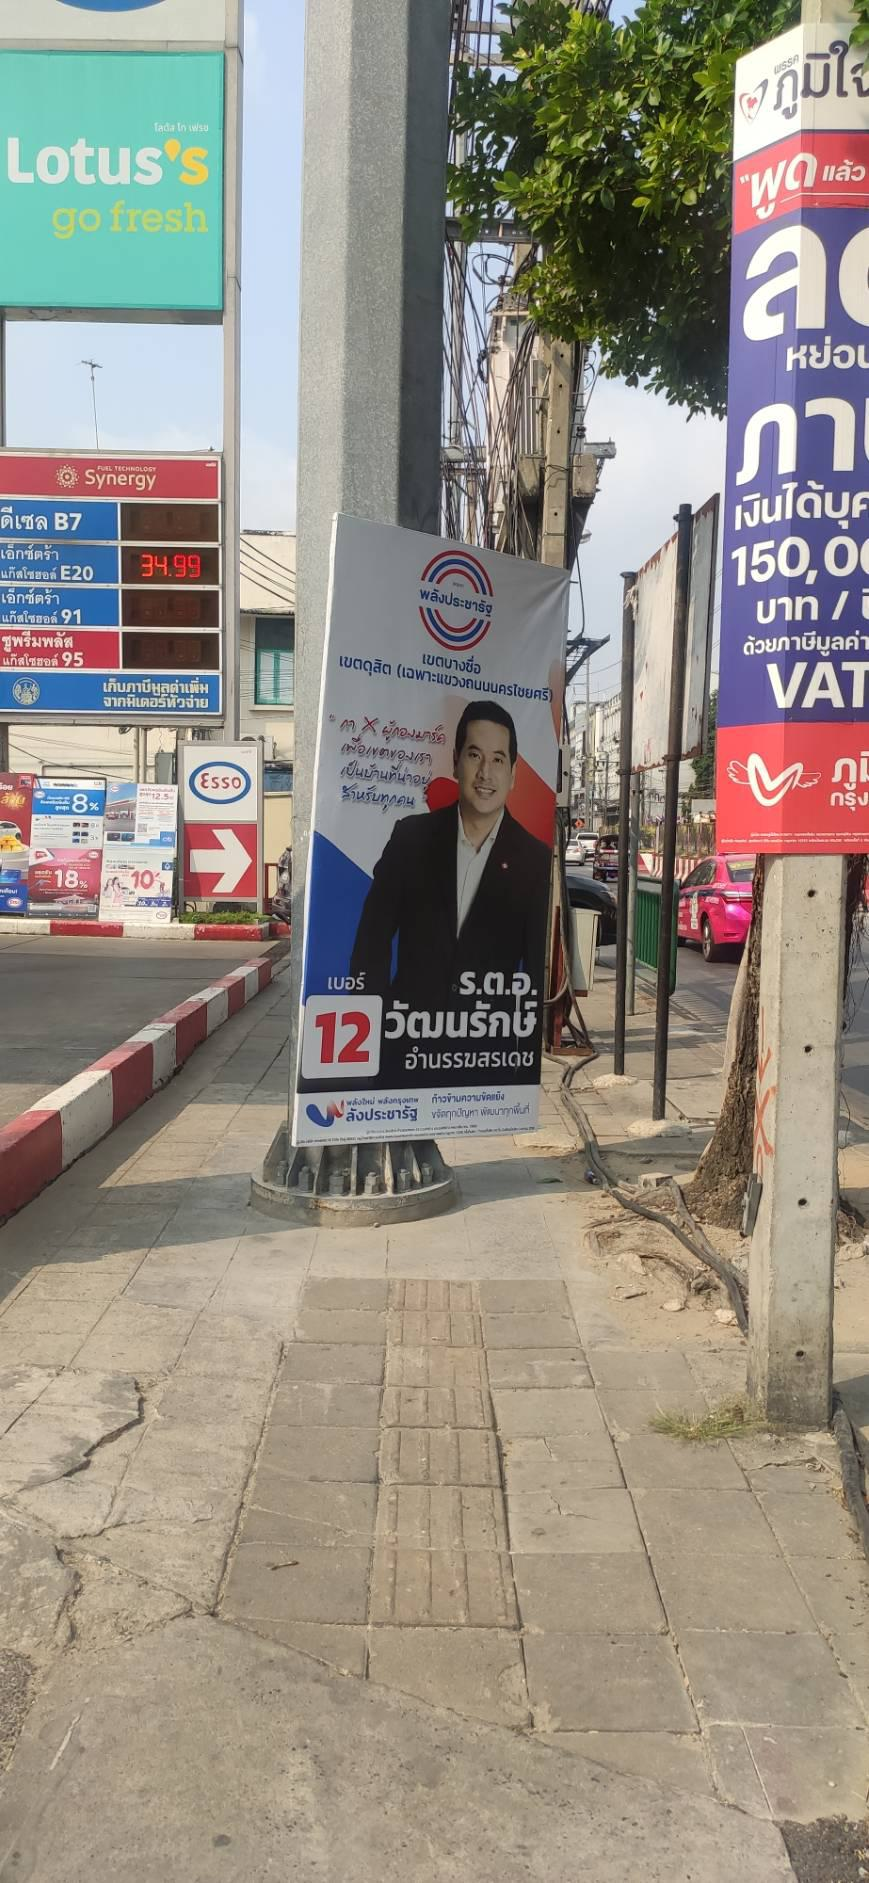Banner: (284, 510, 570, 1135)
